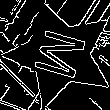M_E: (28, 25, 93, 84)
